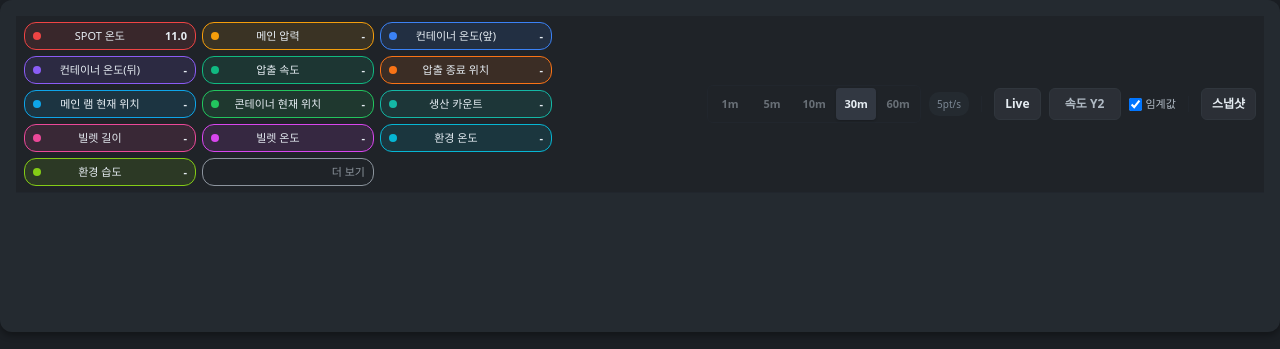
Test case: TimeSeriesWidget render › shows hidden active mold series state after collapsing the expanded list
This screenshot has width=1280, height=349.
Click the button "더 보기" at point(288, 172), box [202,158,374,186]
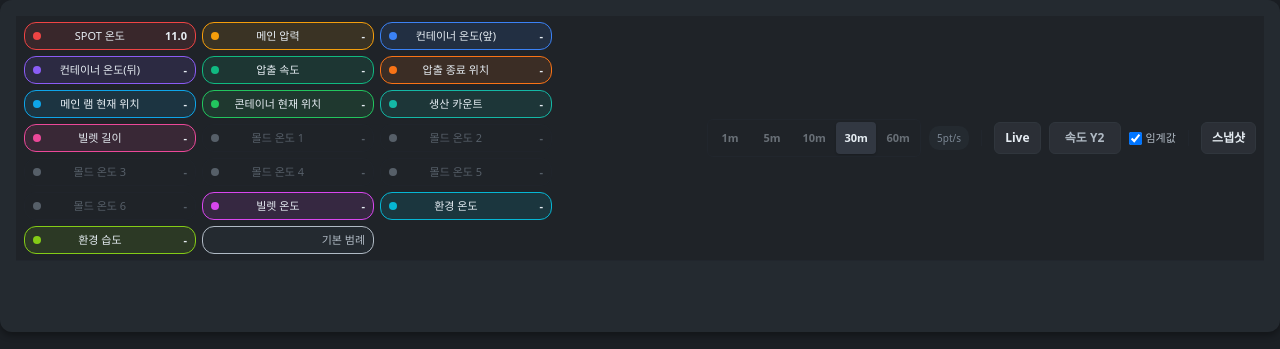
Click the button "몰드 온도 1 -" at point(288, 138), box [202,124,374,152]
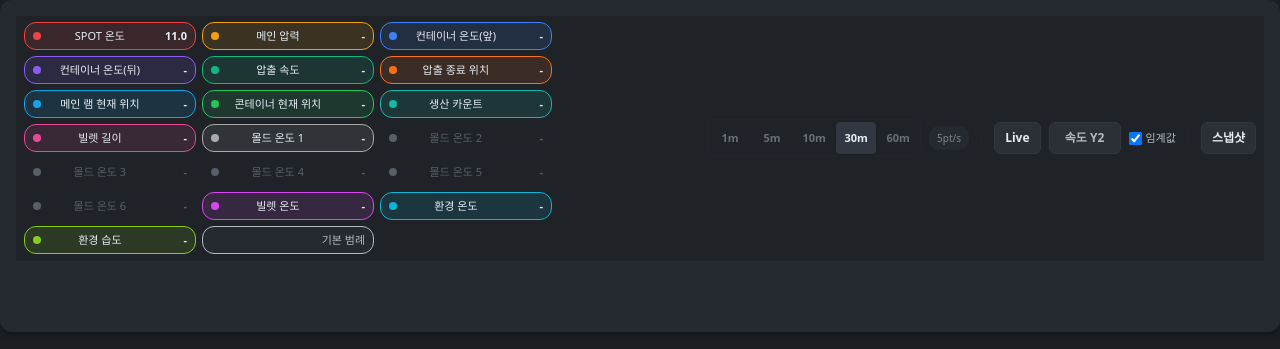
Click the button "더 보기" at point(288, 240), box [202,226,374,254]
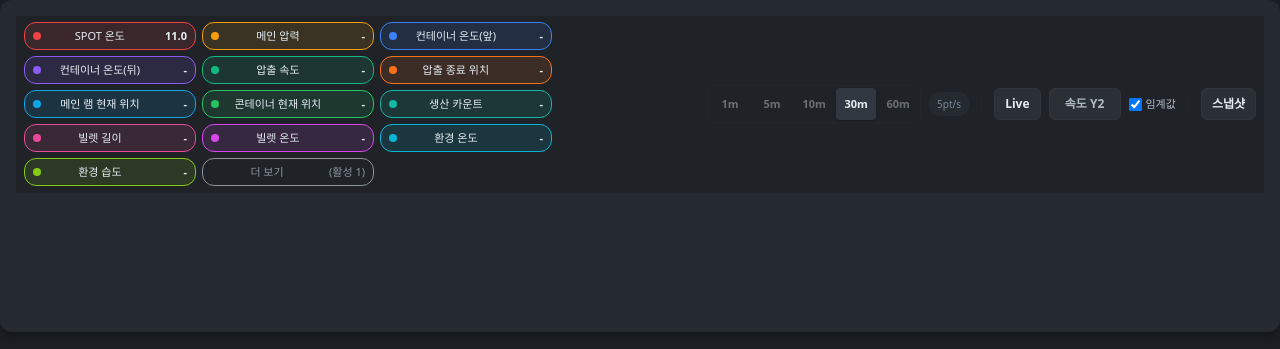
Expected: the button "더 보기 (활성 1)" is shown, [202,158,374,186]
